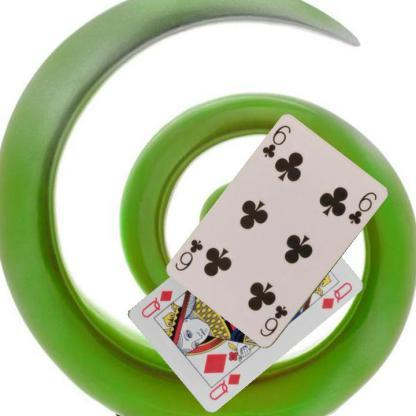6c: (257, 302, 290, 338), (260, 123, 292, 160)
Qd: (206, 362, 242, 402)
